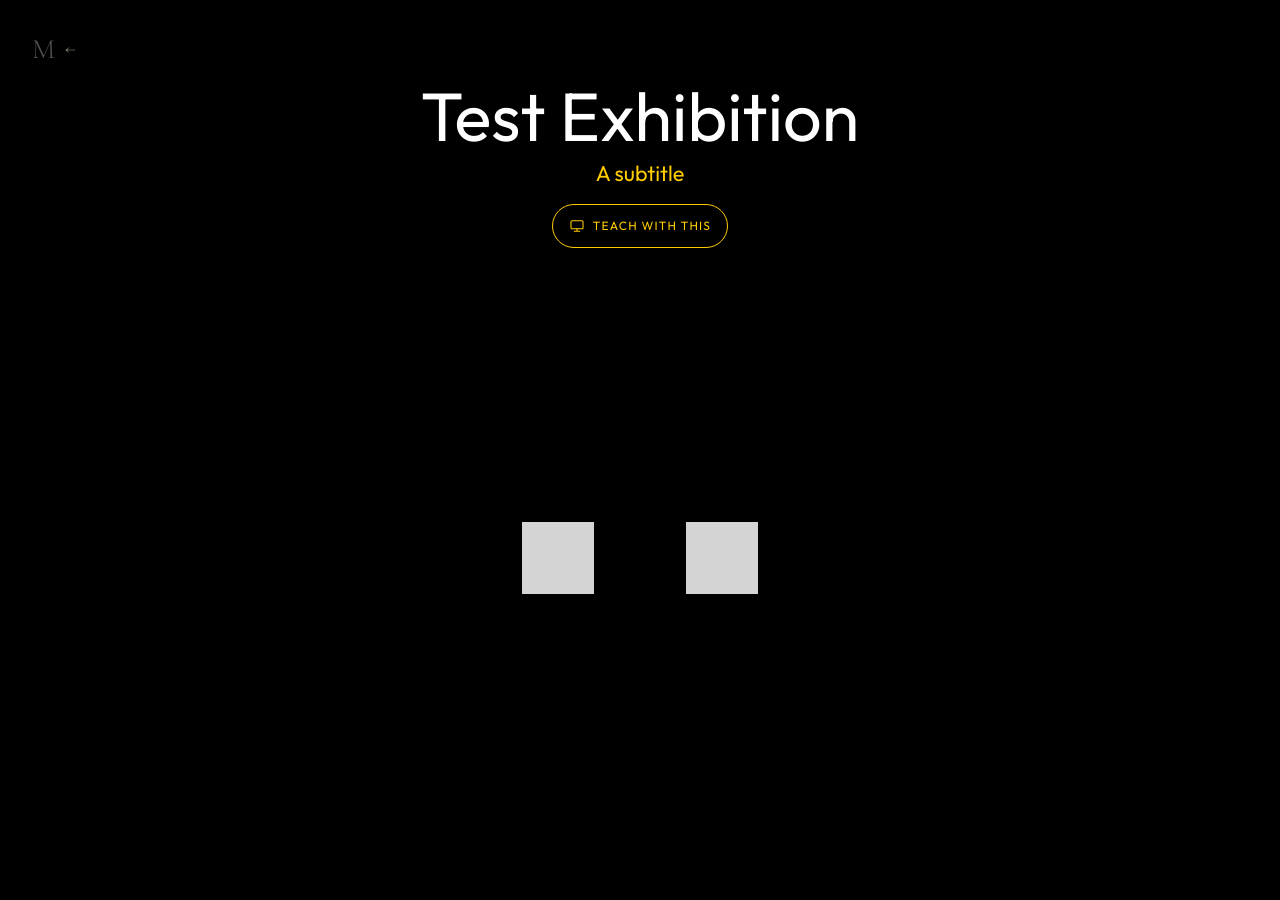
Test: PosterExhibition › shows no lessons when the exhibition has none
This screenshot has width=1280, height=900.
Step 1. Click the 1st button named "First poster image" → click(558, 571), box left=496, top=522, right=621, bottom=620
Wait 400 ms
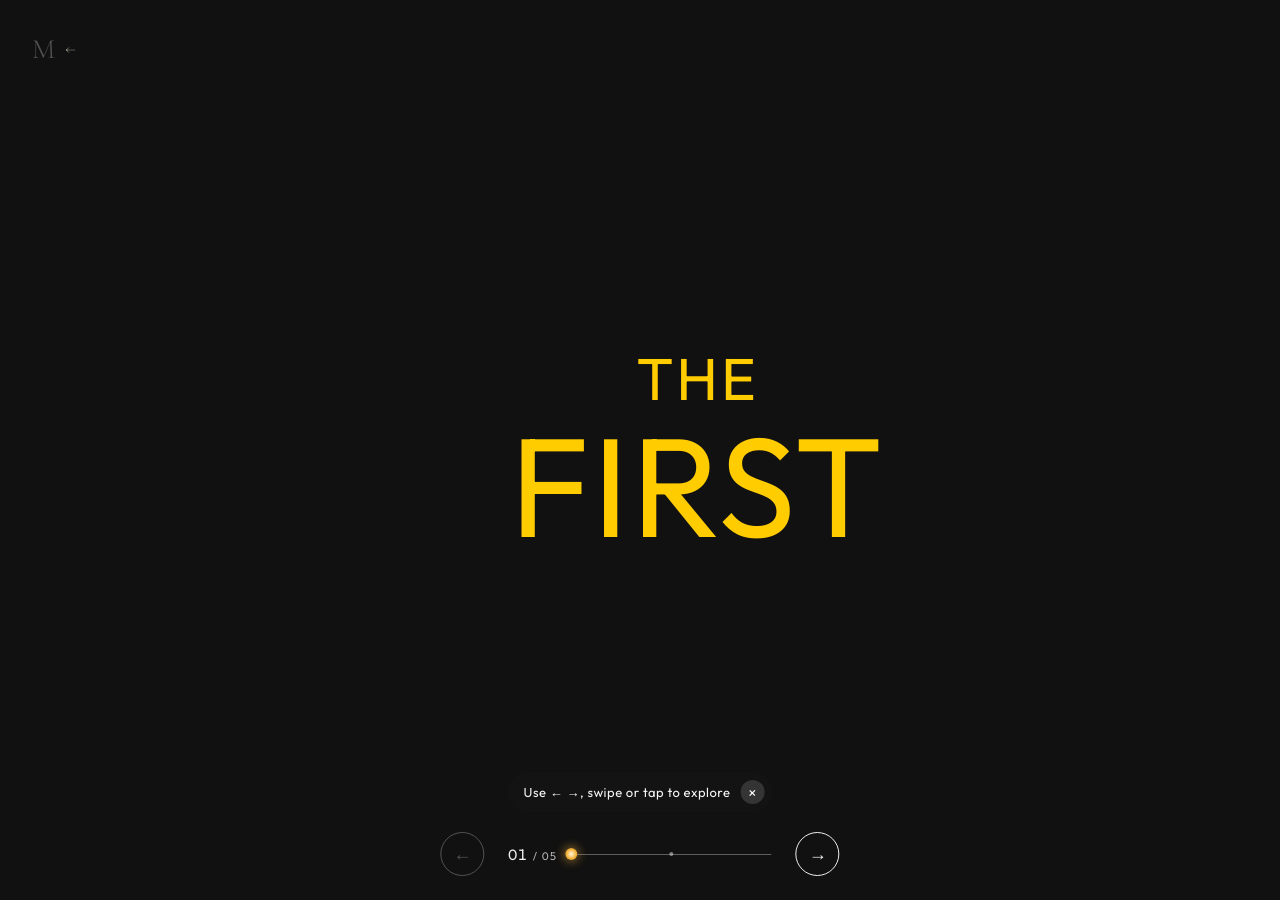
Step 2. Press End
Wait 400 ms
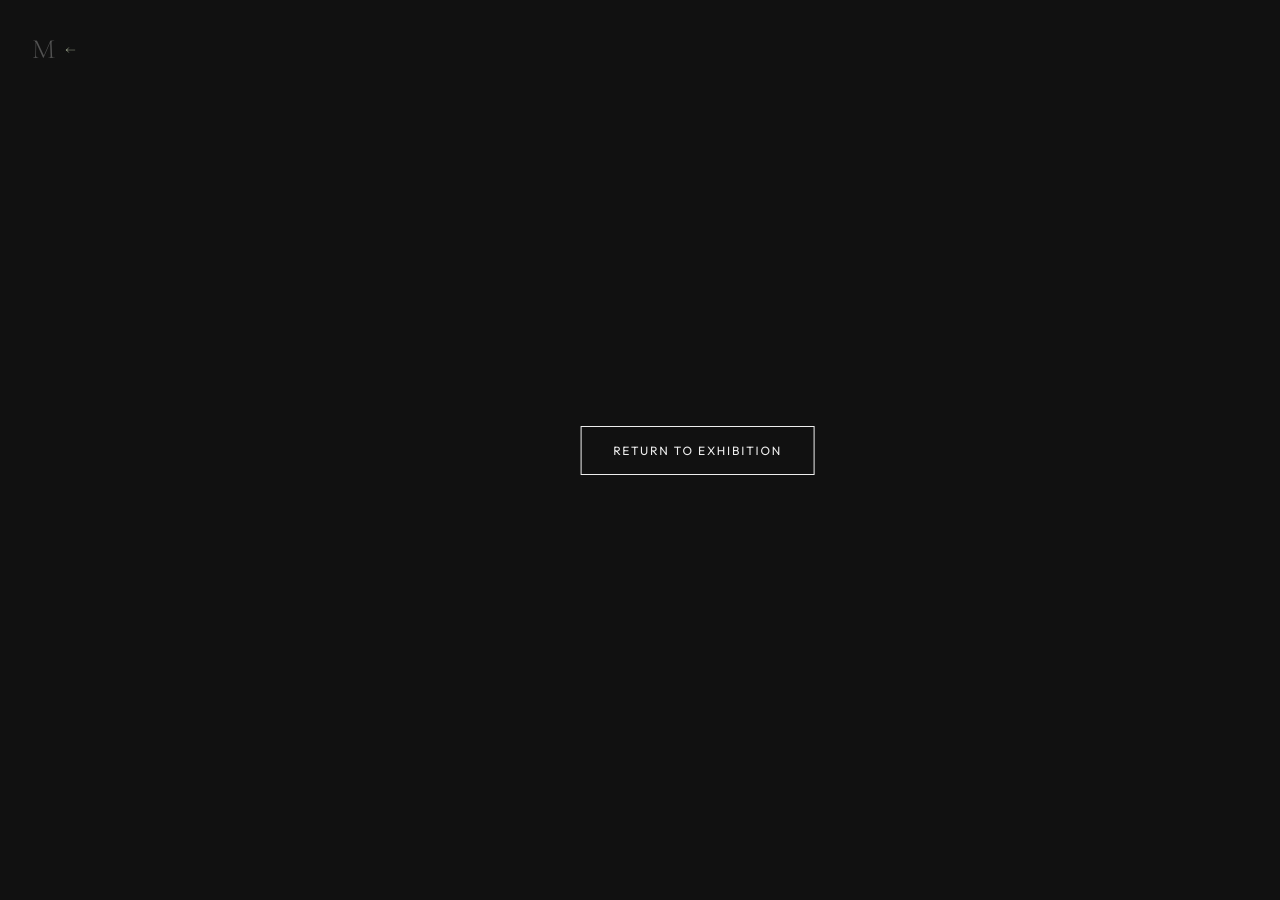
Now the button "Return to Exhibition" is shown, box left=580, top=426, right=815, bottom=474
